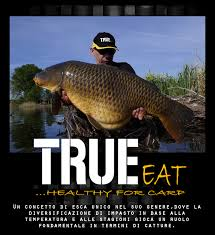carp: (33, 59, 193, 141)
